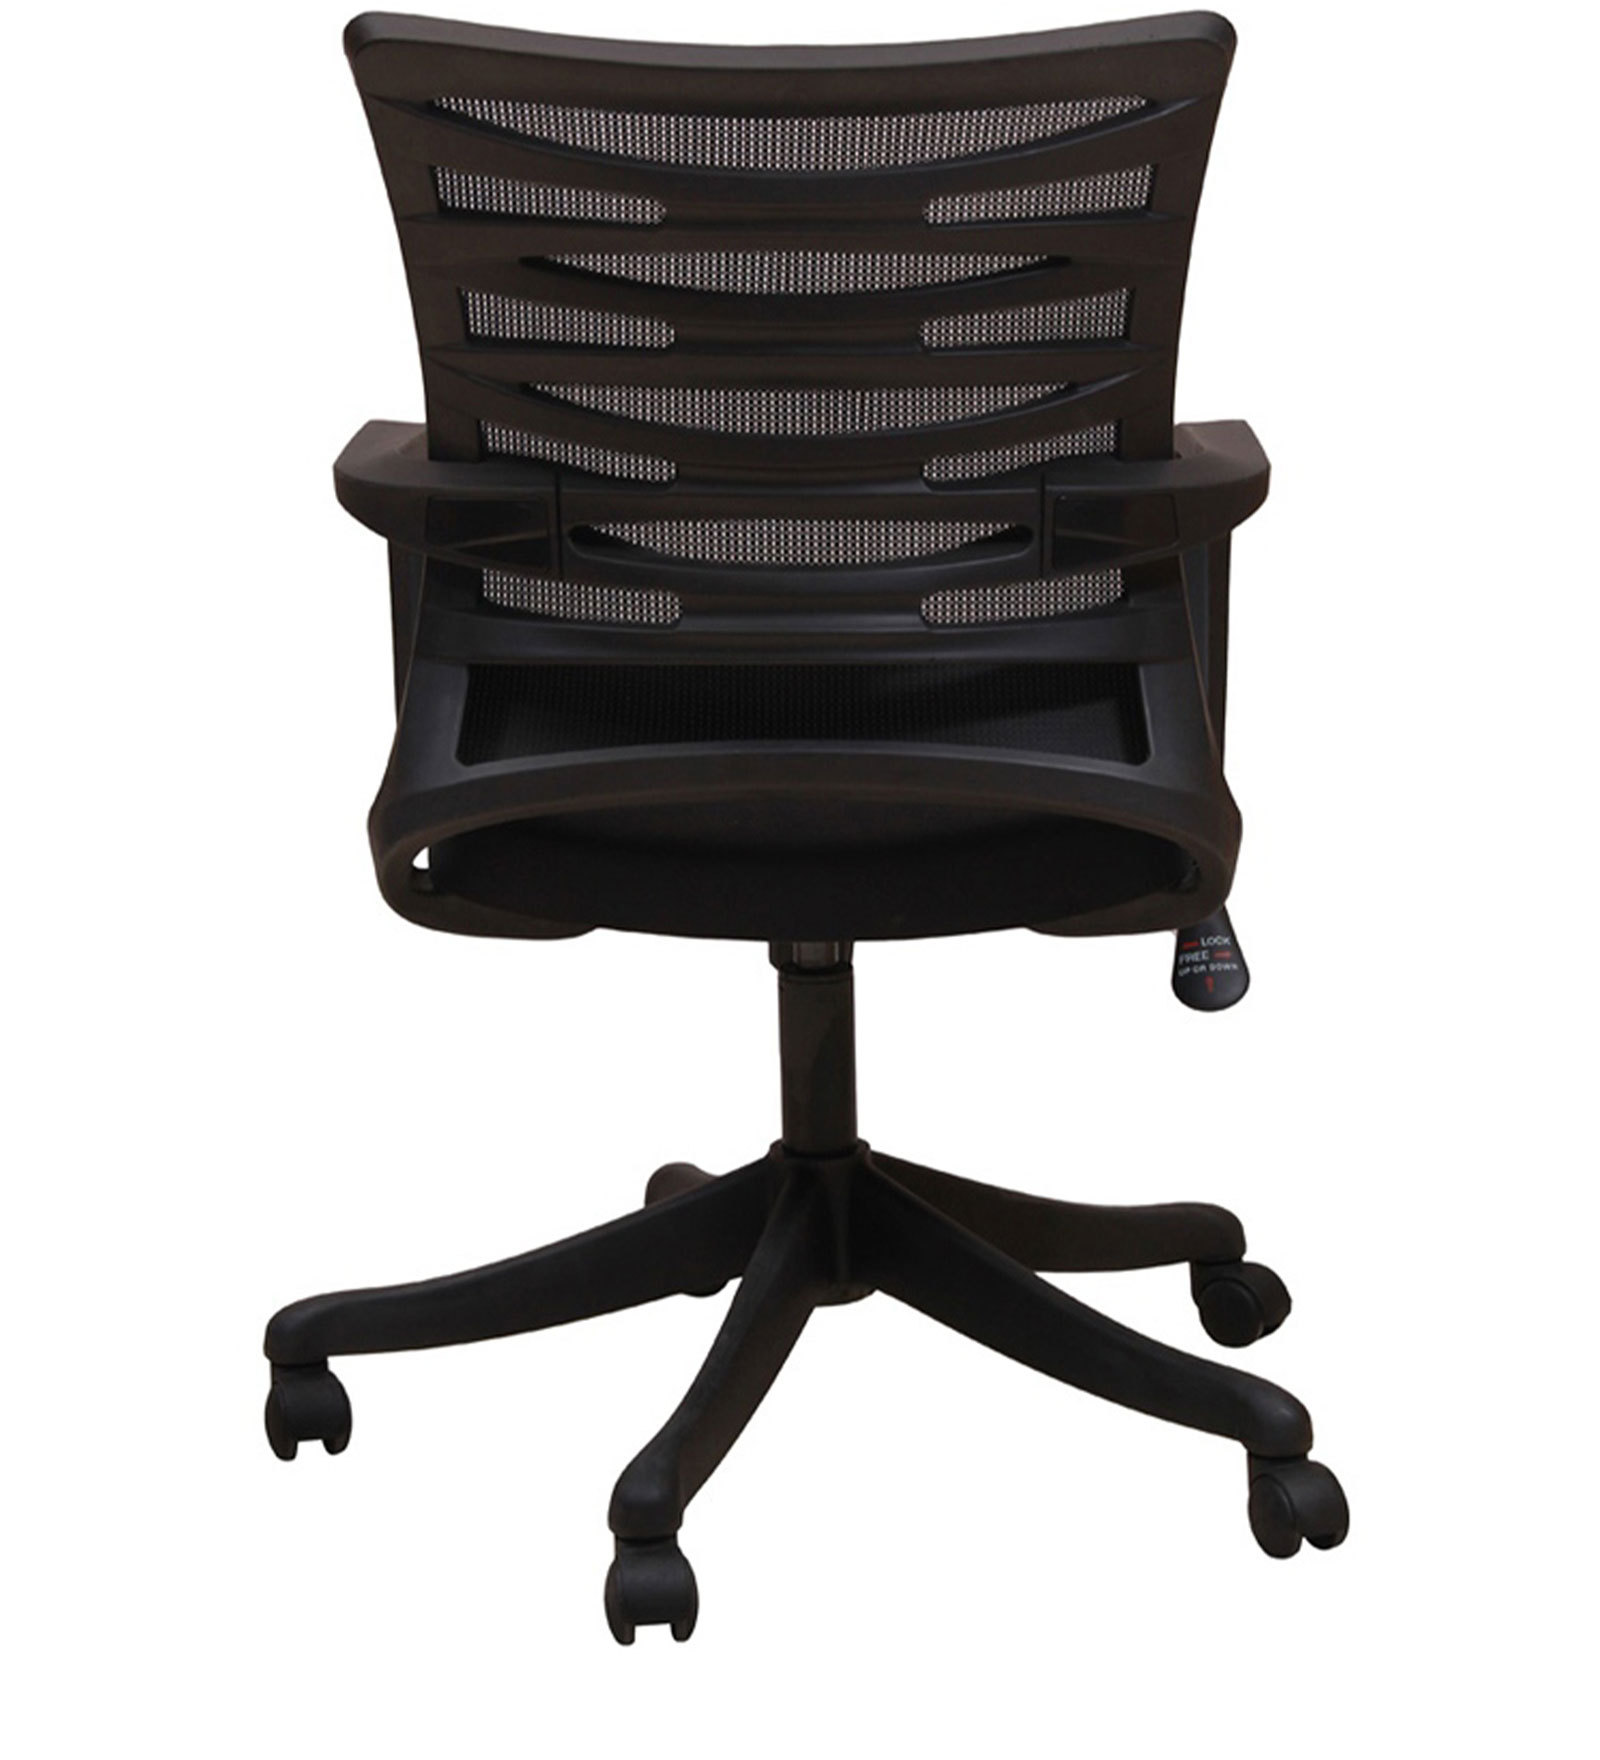Royal Mesh Ergonomic Chair in Black Colour by Adiko Systems: (228, 18, 1444, 1651)
